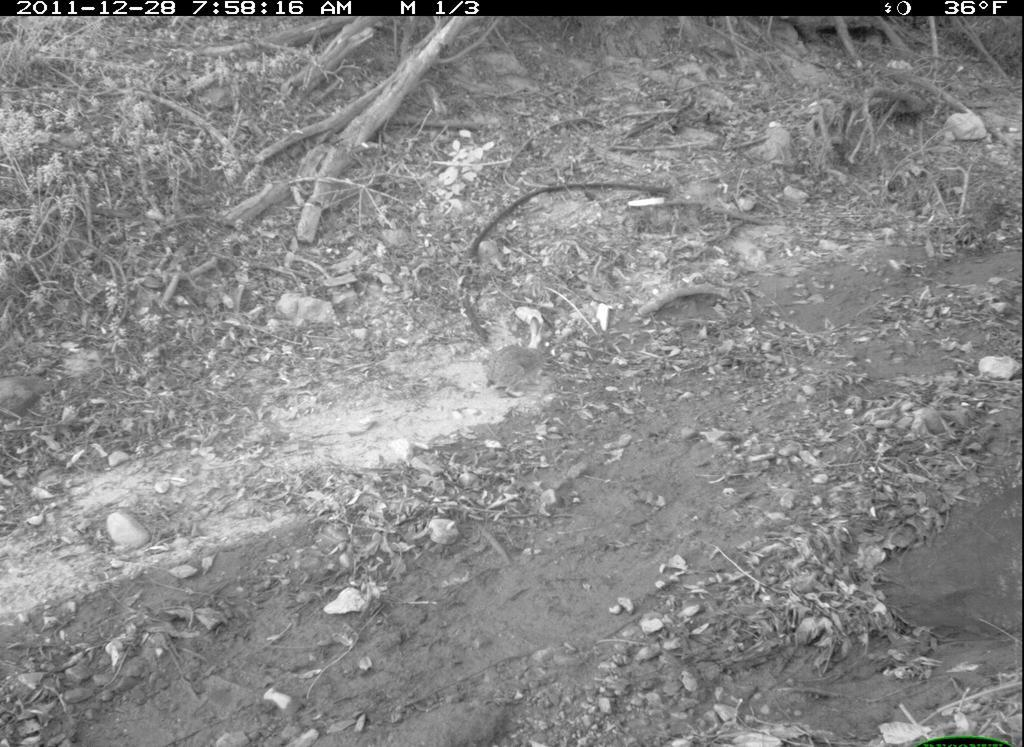rabbit: (478, 331, 564, 402)
